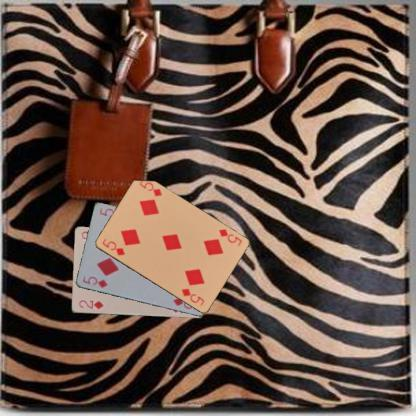2d: (76, 297, 106, 311)
5d: (216, 226, 243, 247), (99, 236, 126, 256), (80, 273, 108, 291)
